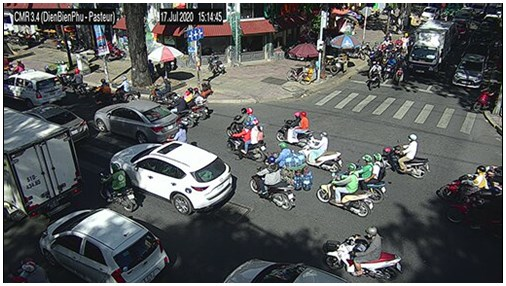xe_hoi: (39, 208, 166, 282), (108, 142, 234, 214), (223, 258, 347, 283), (23, 103, 90, 143), (5, 71, 66, 105), (451, 53, 485, 88), (421, 7, 439, 21)
xe_may: (322, 226, 402, 282), (317, 163, 372, 218), (446, 187, 502, 240), (249, 152, 296, 210), (382, 134, 430, 179), (439, 165, 501, 199), (98, 162, 137, 213), (297, 131, 343, 172), (227, 119, 267, 163), (356, 153, 387, 203), (276, 111, 312, 148), (8, 256, 49, 282), (474, 79, 499, 116), (167, 94, 195, 127), (149, 74, 177, 103), (184, 86, 208, 119), (229, 107, 256, 135), (68, 69, 90, 97), (114, 76, 138, 101), (92, 79, 113, 105), (394, 58, 408, 88), (168, 123, 187, 144), (52, 61, 69, 84), (369, 61, 381, 88), (383, 54, 392, 80), (10, 59, 24, 75)
xe_tai: (5, 107, 86, 221), (408, 21, 454, 77)
